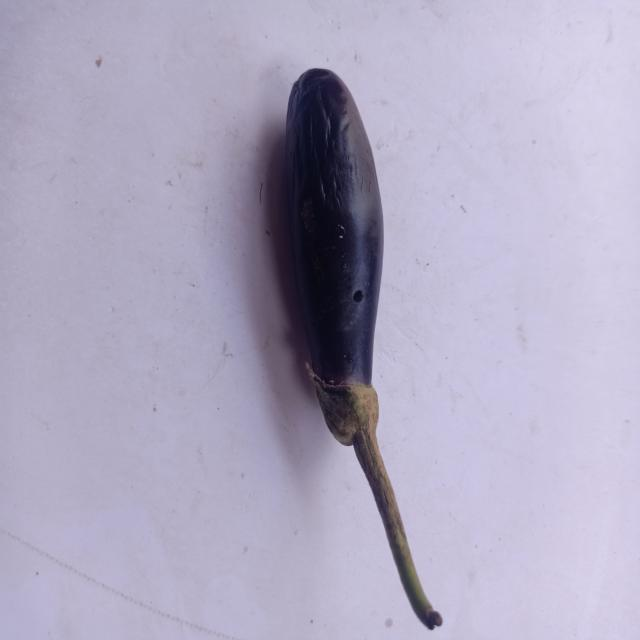Brinjal: (231, 50, 478, 635)
